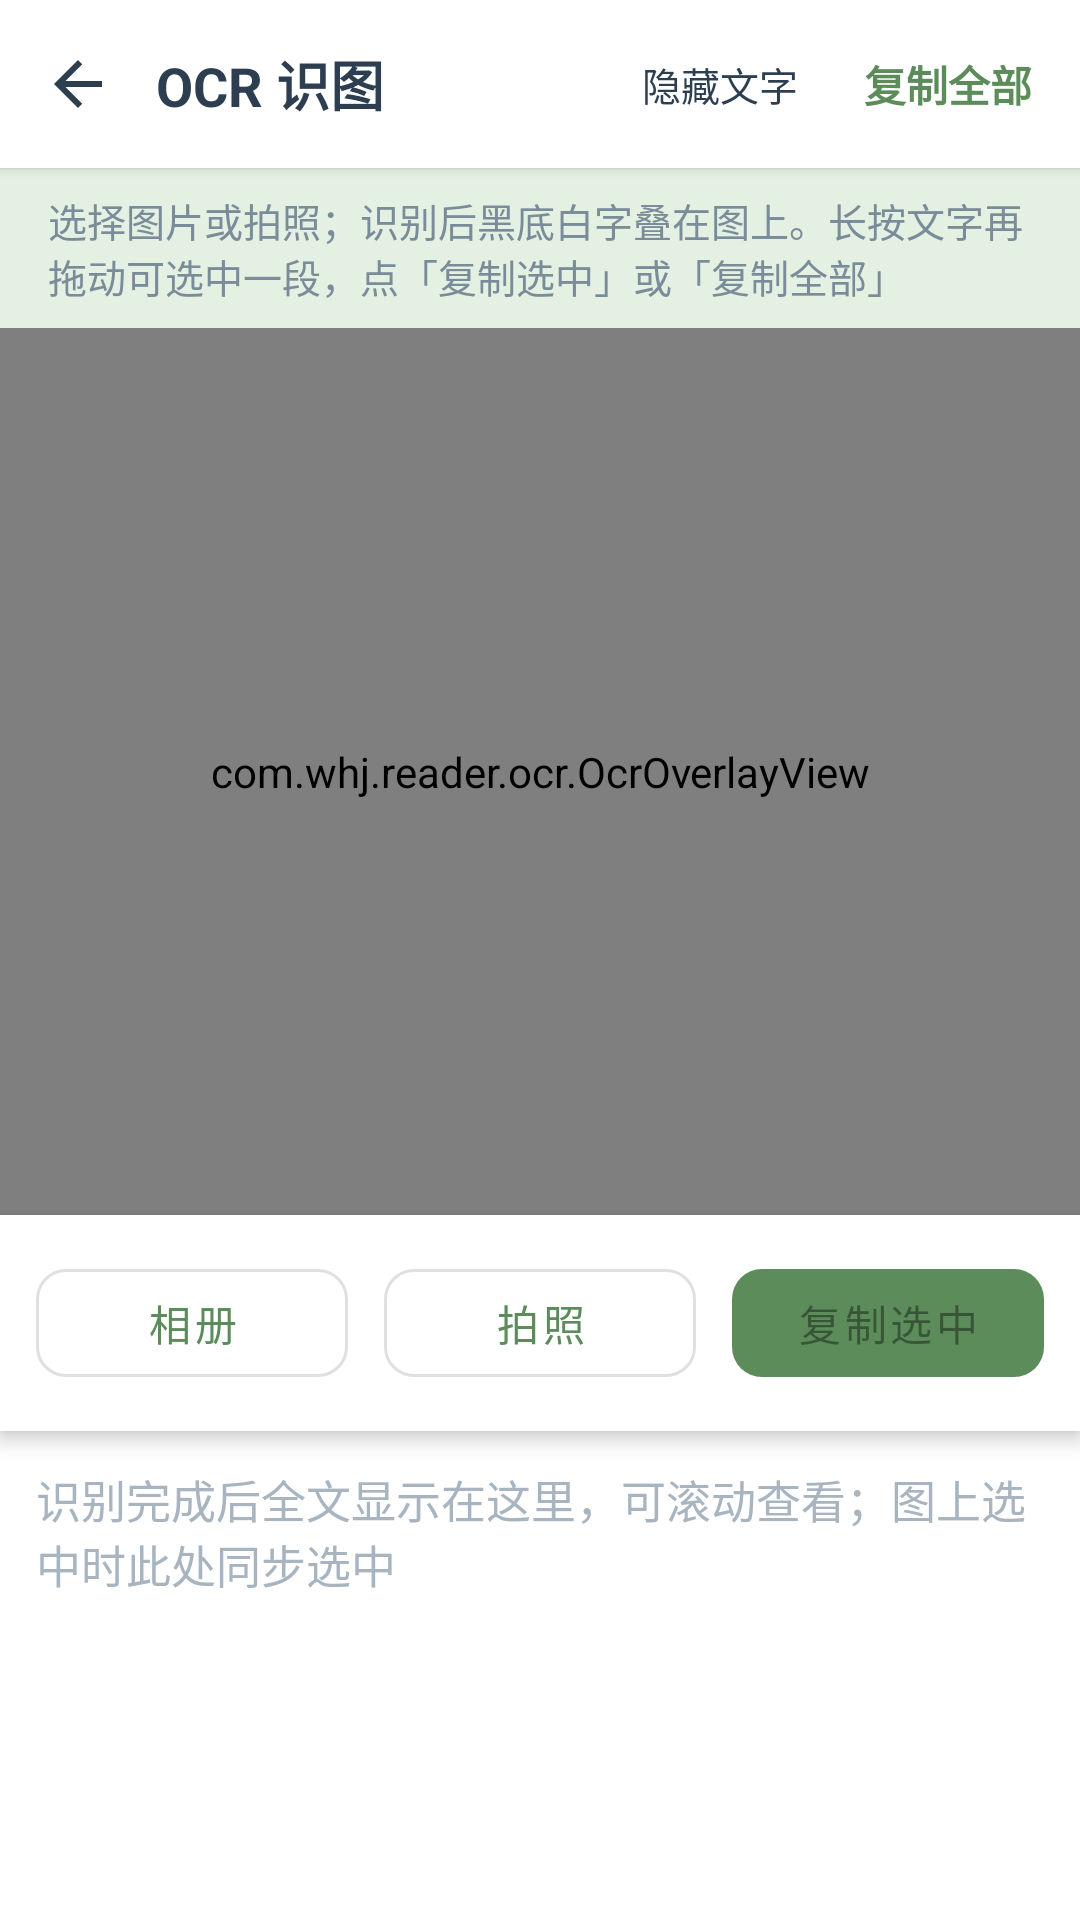

Icon bounding boxes for this 1080×1920 phone screenshot, format (x1, y1, x2, y2):
返回: (54, 60, 102, 108)
